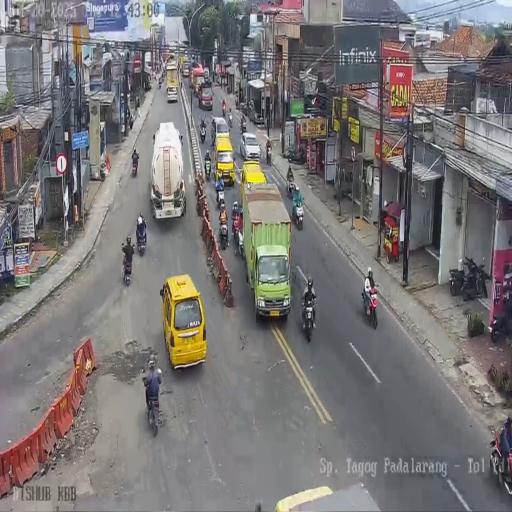3: (241, 180, 290, 319), (150, 121, 185, 222), (240, 161, 266, 202), (165, 58, 179, 103), (191, 65, 205, 95), (183, 61, 190, 77), (204, 68, 210, 81)
car: (160, 273, 205, 367), (239, 132, 261, 162), (210, 116, 230, 144)
truck: (489, 422, 512, 498), (143, 380, 162, 436), (490, 301, 512, 342), (301, 286, 317, 342), (362, 285, 378, 331), (448, 257, 465, 296), (232, 219, 244, 258), (122, 248, 132, 286), (285, 146, 305, 164), (136, 223, 147, 255), (218, 218, 229, 250), (293, 198, 304, 230), (216, 186, 225, 211), (240, 100, 250, 117), (204, 156, 211, 179), (132, 154, 139, 176), (265, 142, 272, 164), (199, 122, 206, 143), (286, 177, 293, 196), (240, 116, 246, 135), (227, 111, 233, 128), (222, 99, 226, 117), (235, 96, 239, 108), (158, 77, 162, 88), (156, 74, 158, 84)
